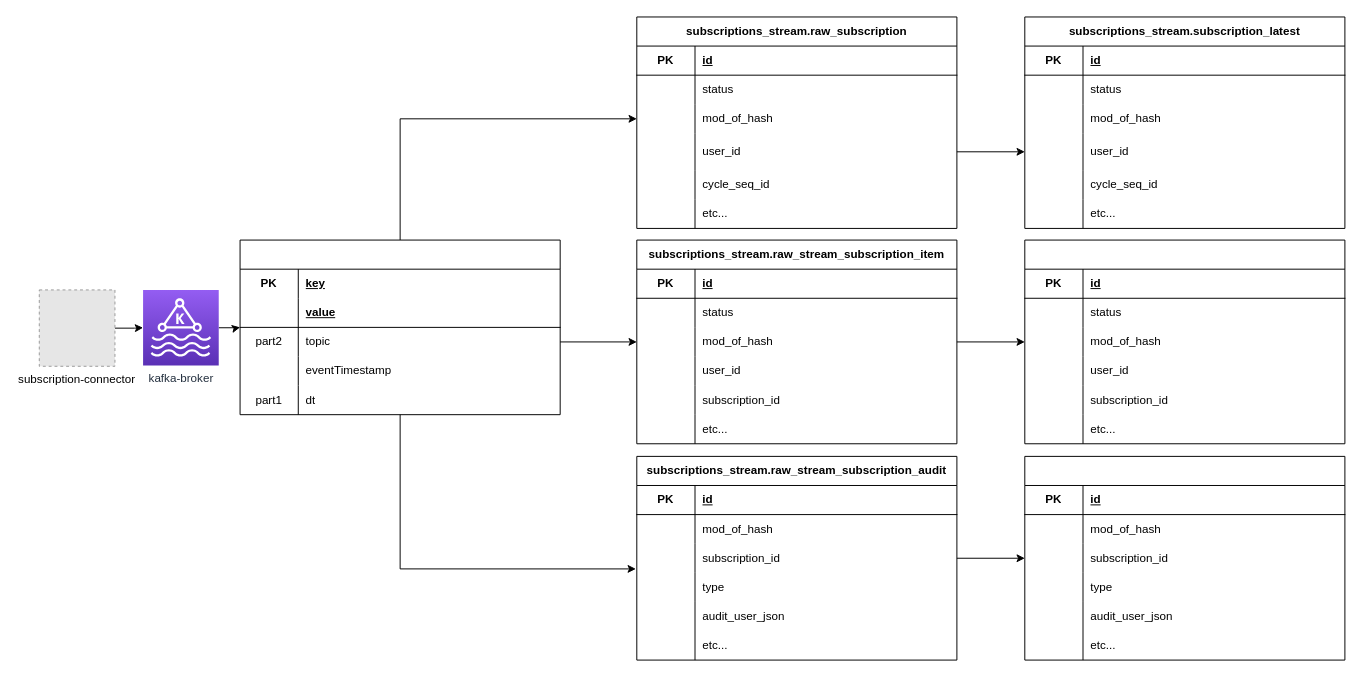
The diagram is 1362 pixels wide and 677 high, and some of its shapes have lost their labels. Grey dashed boxes stand in for pictures. The box of each missing label's shape, as (x1, y1, x2, y2) in pixels:
subscriptions_stream.stream_subscription_audit_latest: (1024, 455, 1345, 660)
subscriptions_stream.stream_subscription_item_latest: (1024, 239, 1345, 444)
subscriptions_stream.subscriptions_topics: (239, 239, 560, 415)
